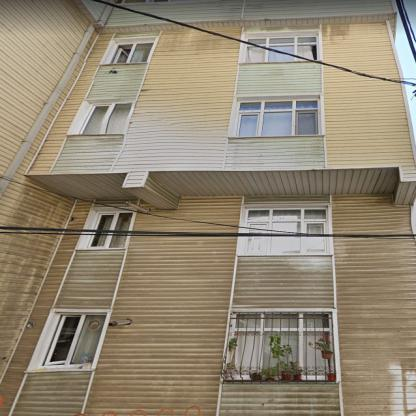window: (230, 314, 329, 374), (40, 314, 107, 366), (236, 100, 318, 136), (246, 209, 326, 234), (247, 36, 318, 60), (80, 103, 132, 134), (245, 237, 326, 253), (245, 45, 310, 62), (108, 42, 153, 63), (96, 212, 132, 231), (87, 235, 128, 248)
